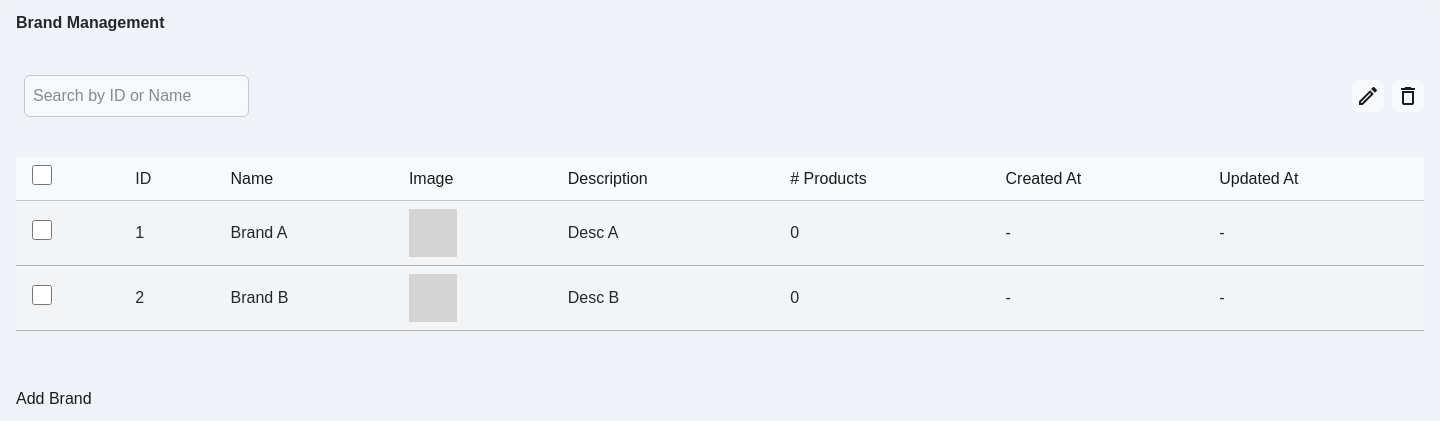
BrandTable › shows alert if trying to edit with nothing selected
Note: Click the first visible edit button (toolbar)
Step 1. Click the button titled "edit selected brand" → x=1368, y=96, box x1=1352 y1=80 x2=1384 y2=112
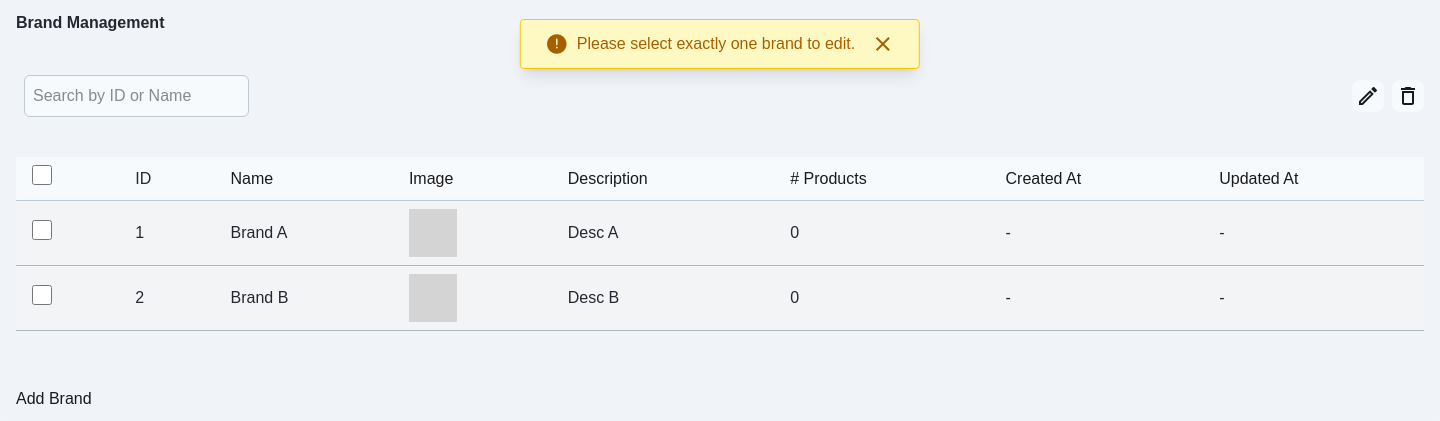
Result: the text "Please select exactly one brand to edit." is shown at x1=577 y1=32 x2=855 y2=56
